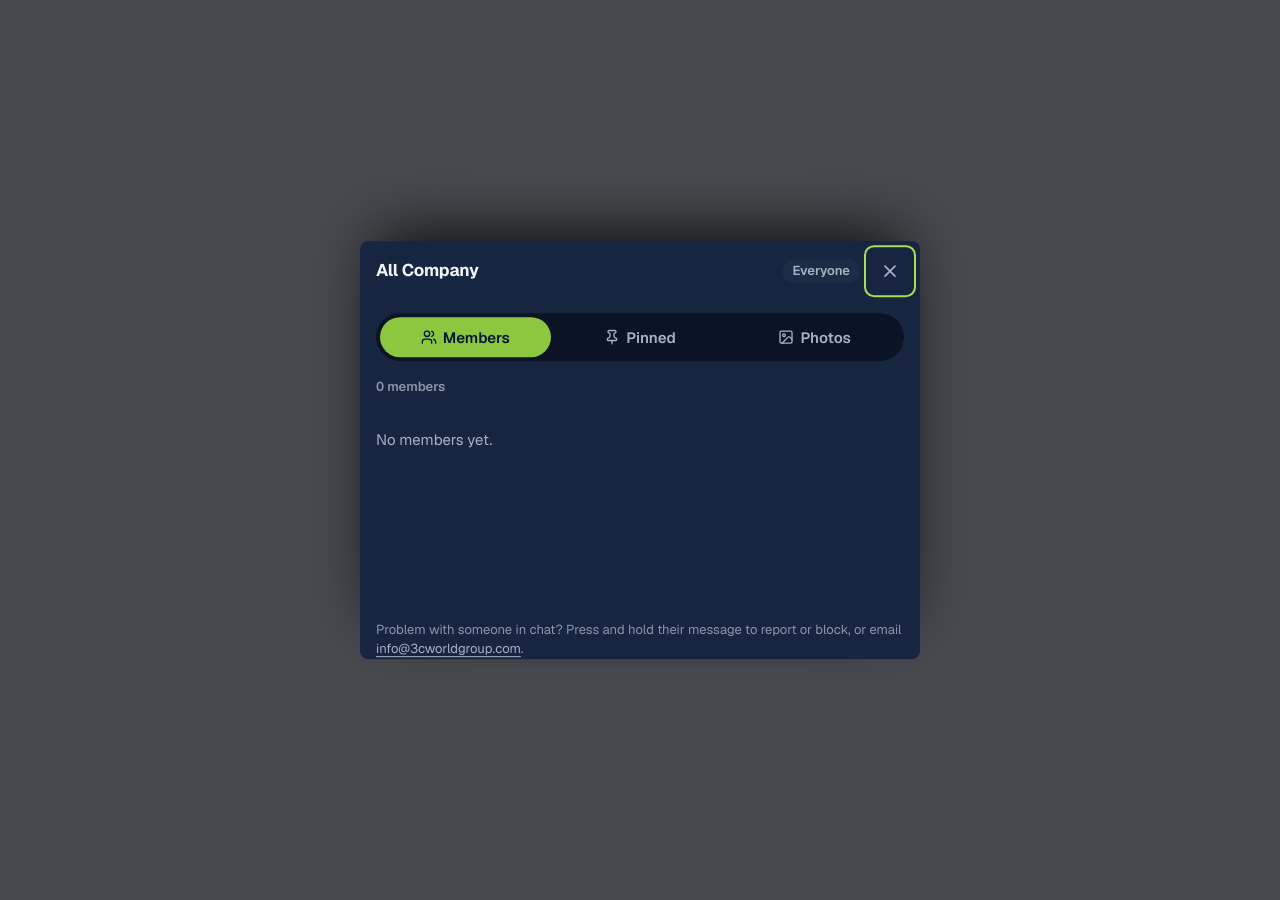
it: ChannelInfoSheet › shows the empty line when every photo is from a blocked author
What coordinates should you click on to do the following:
click the button "Photos"
I would click on:
 (815, 337)
Its box is left=729, top=317, right=900, bottom=357.
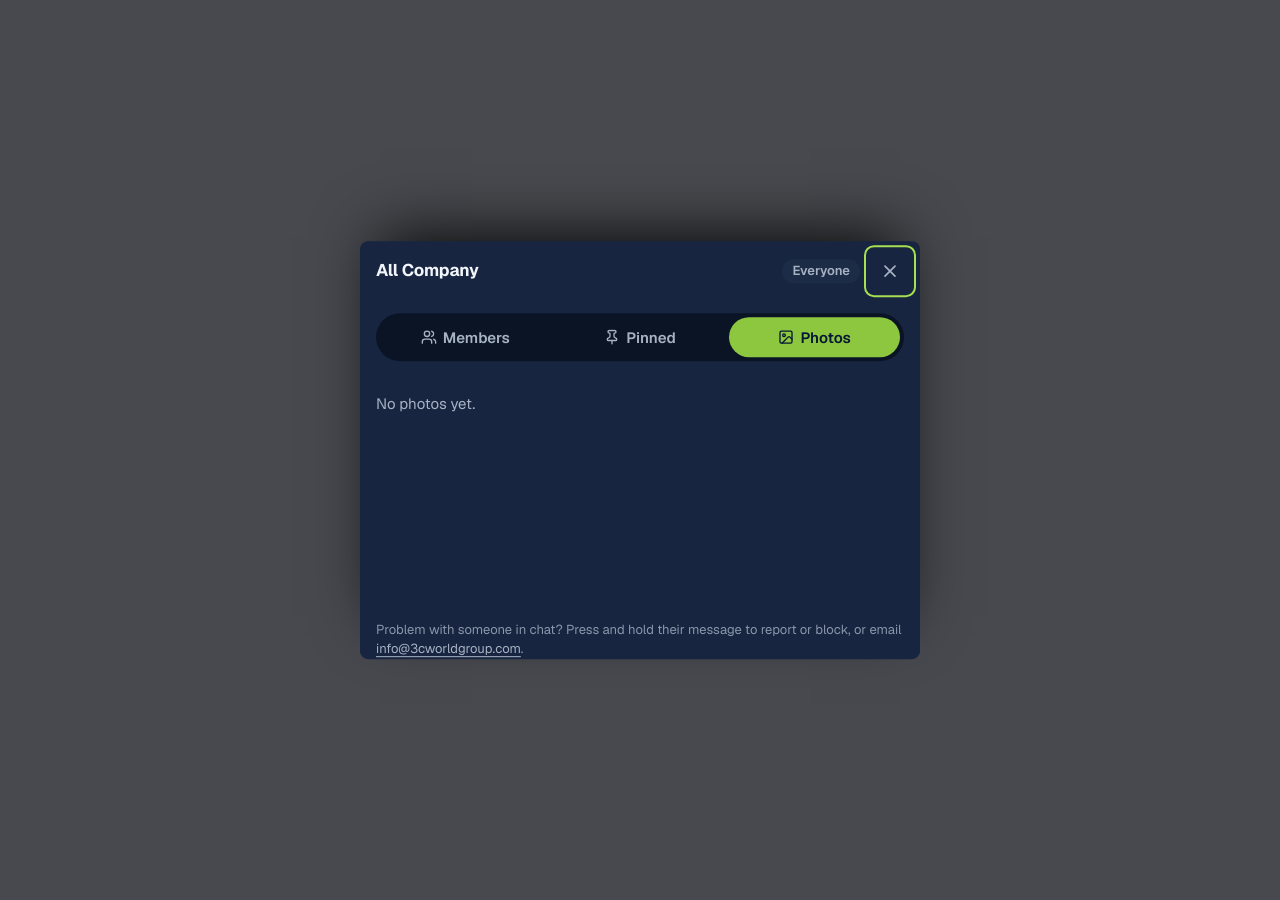
Now the text "No photos yet." is shown, box left=376, top=394, right=475, bottom=413
